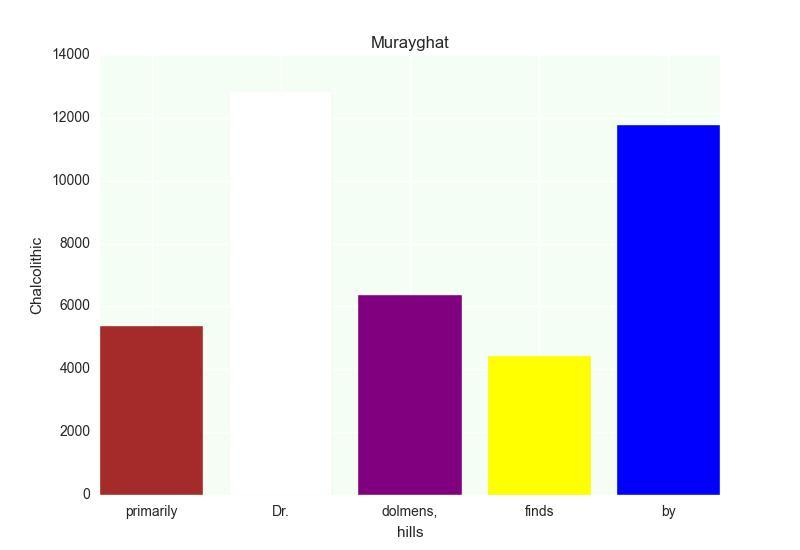axis: (30, 49, 90, 502)
rectangle: (230, 91, 332, 495), (617, 125, 720, 495), (358, 295, 461, 495), (100, 326, 203, 495), (488, 356, 590, 495)
